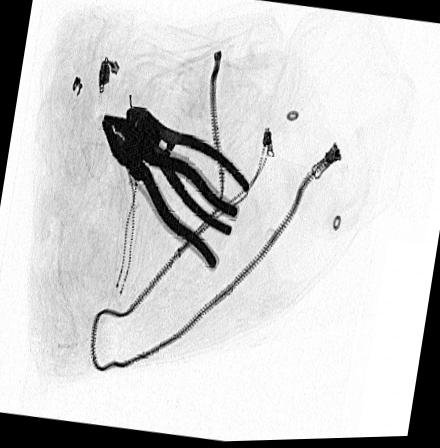Pliers: (98, 113, 240, 273), (123, 103, 252, 241)
